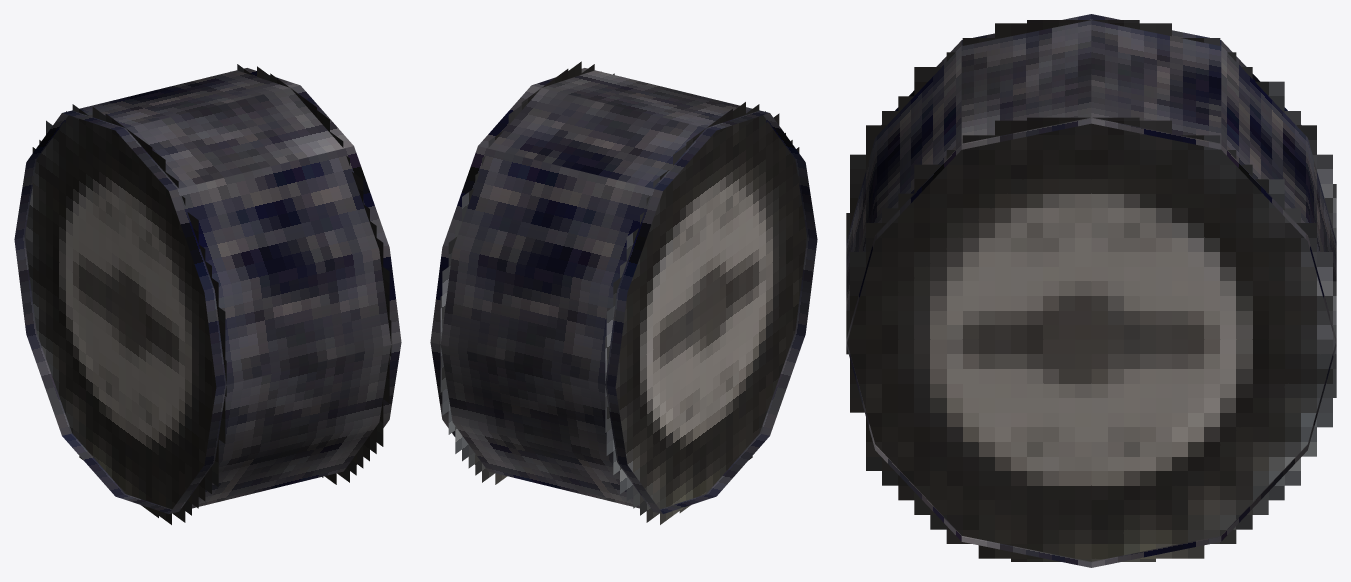
Rendered from Fury.fbx.
3 views of the same model, side by side, from view 1: azimuth 30°, elevation 25°; view 2: azimuth 150°, elevation 25°; view 3: azimuth 270°, elevation 25° (orthographic). The views are drawn at different scales.
Parts seen in each view (by area): view 1: body12_wheel0.002; view 2: body12_wheel0.002; view 3: body12_wheel0.002.
Boxes of the visible parts, x1,y1,x2,y2 form: body12_wheel0.002: (14,64,401,524); body12_wheel0.002: (430,61,817,524); body12_wheel0.002: (846,14,1336,567).
Size of the model in its own units: 1800 by 3400 by 3400.
3 materials, 3 textured.
